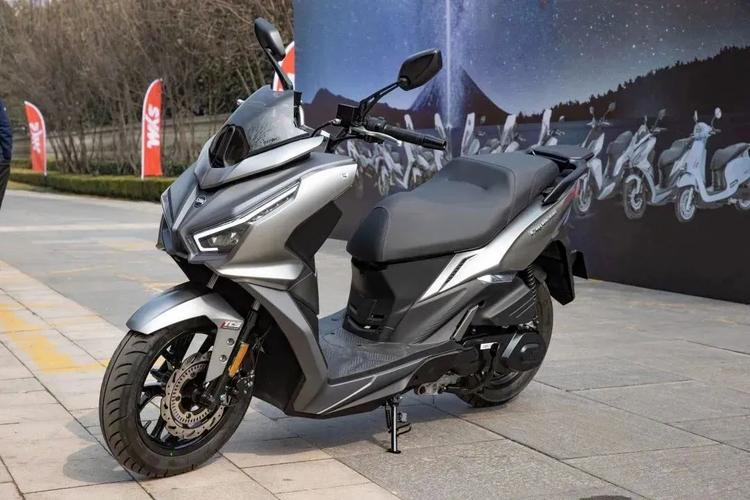摩托车: (91, 18, 599, 480)
